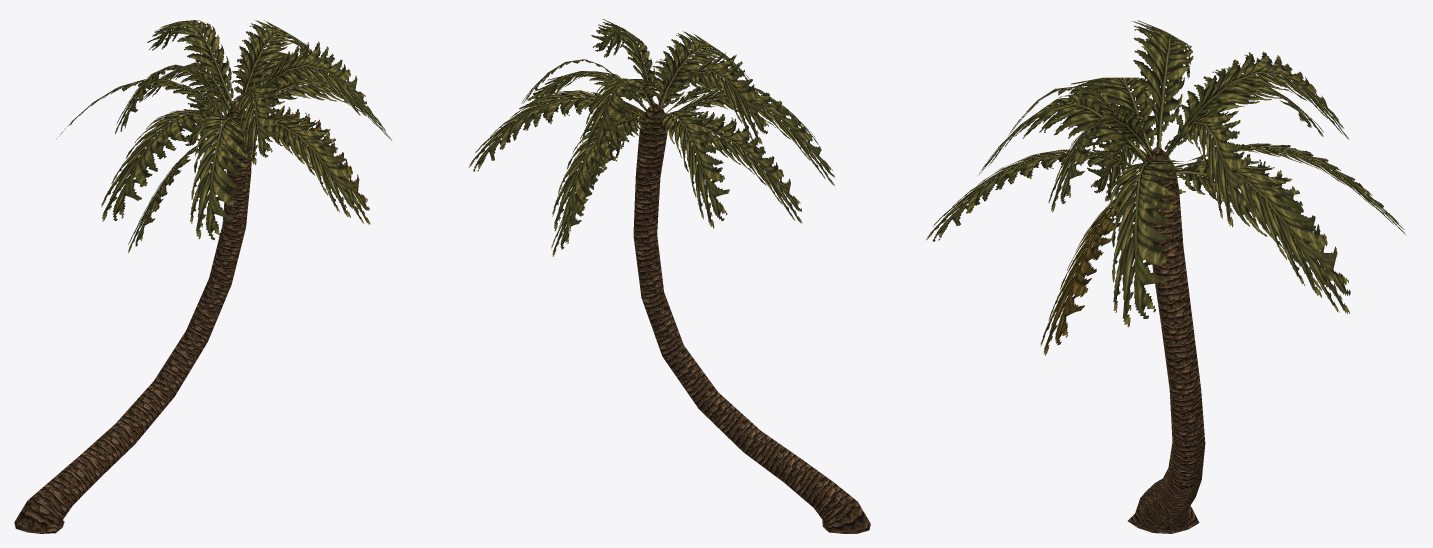
Rendered from Palmeira_06_Arco_Da_Duna.glb.
3 renders of one model, left to right at view 1: azimuth 30°, elevation 25°; view 2: azimuth 150°, elevation 25°; view 3: azimuth 270°, elevation 25°, orthographic. The views are drawn at different scales.
Parts seen in each view (by area): view 1: Folhas abertas, Caule, Folhas novas, Folhas inferiores; view 2: Folhas abertas, Caule, Folhas novas, Folhas inferiores, Bainhas da copa; view 3: Folhas abertas, Folhas novas, Caule, Folhas inferiores.
Boxes of the visible parts, x1,y1,x2,y2 form: Folhas abertas: (56,51,392,239); Caule: (14,138,251,533); Folhas novas: (115,20,367,164); Folhas inferiores: (128,90,370,253); Folhas abertas: (468,59,834,233); Caule: (633,134,870,533); Folhas novas: (521,19,768,152); Folhas inferiores: (551,102,802,256); Bainhas da copa: (639,103,667,139); Folhas abertas: (926,68,1406,327); Folhas novas: (1008,20,1348,227); Caule: (1128,194,1205,533); Folhas inferiores: (1040,137,1350,355).
Size of the model in its own units: 8.33 by 9 by 7.21.
Materials: 2 (2 with a texture image).
